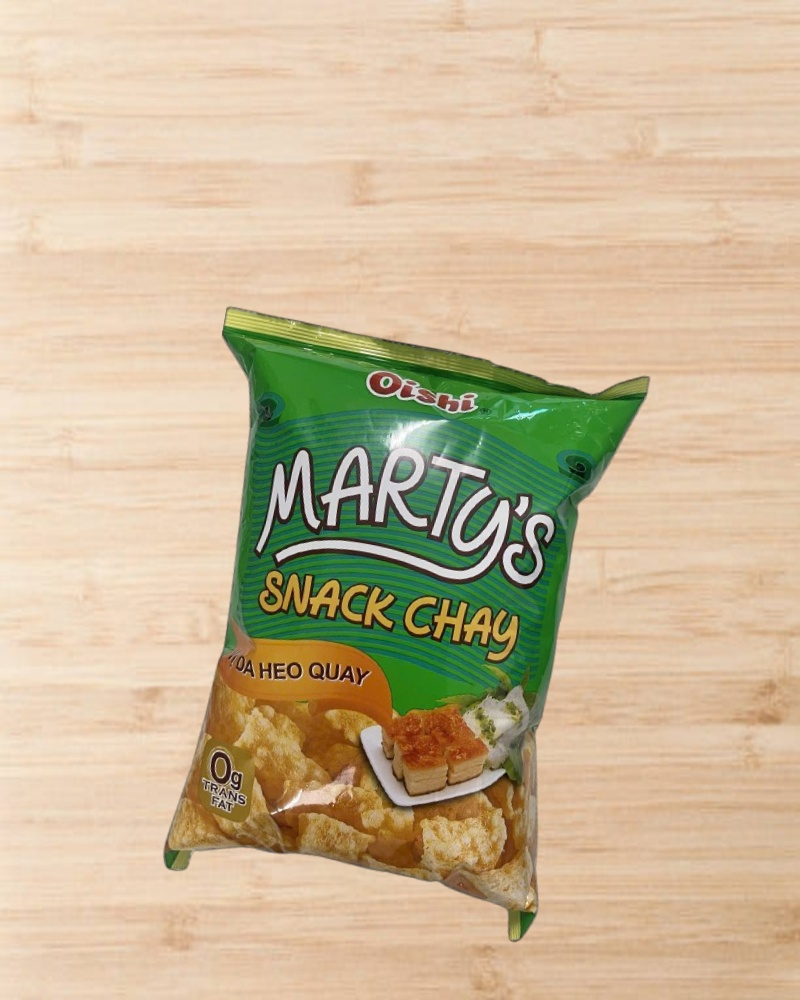Snack chay: (128, 303, 651, 949)
